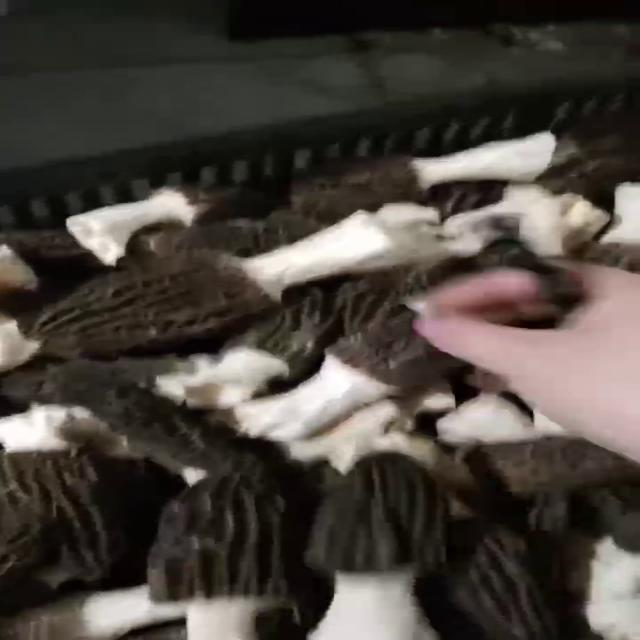Morchella esculenta: (9, 215, 436, 345), (303, 449, 442, 640), (149, 470, 276, 640), (303, 129, 554, 209)
